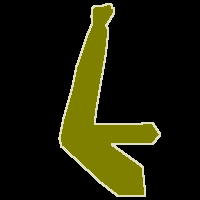tie: (59, 4, 160, 196)
